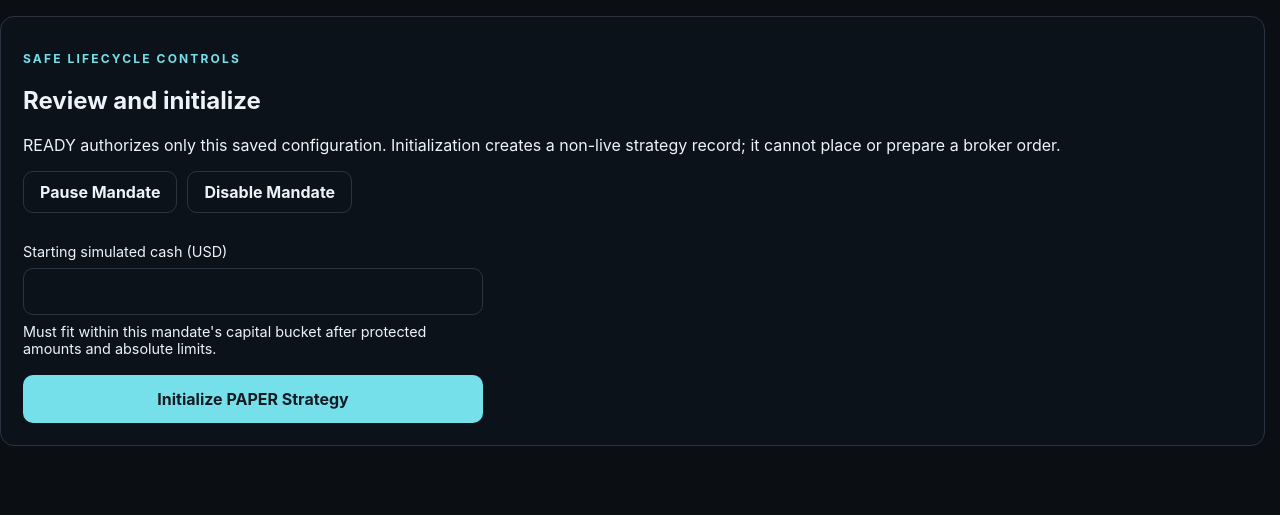
Scenario: MandateControls › initializes only a simulated paper portfolio
In the number field labelled "Starting simulated cash": (253, 291) [23,268,483,315], type "2500"
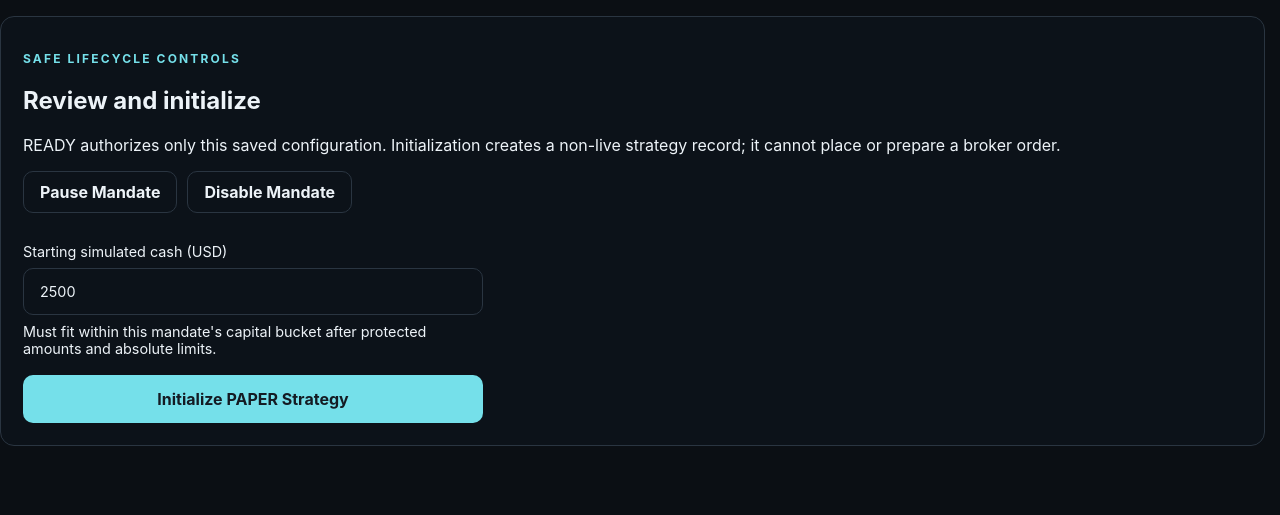
Click the button "Initialize PAPER Strategy": (253, 399) [23,375,483,423]
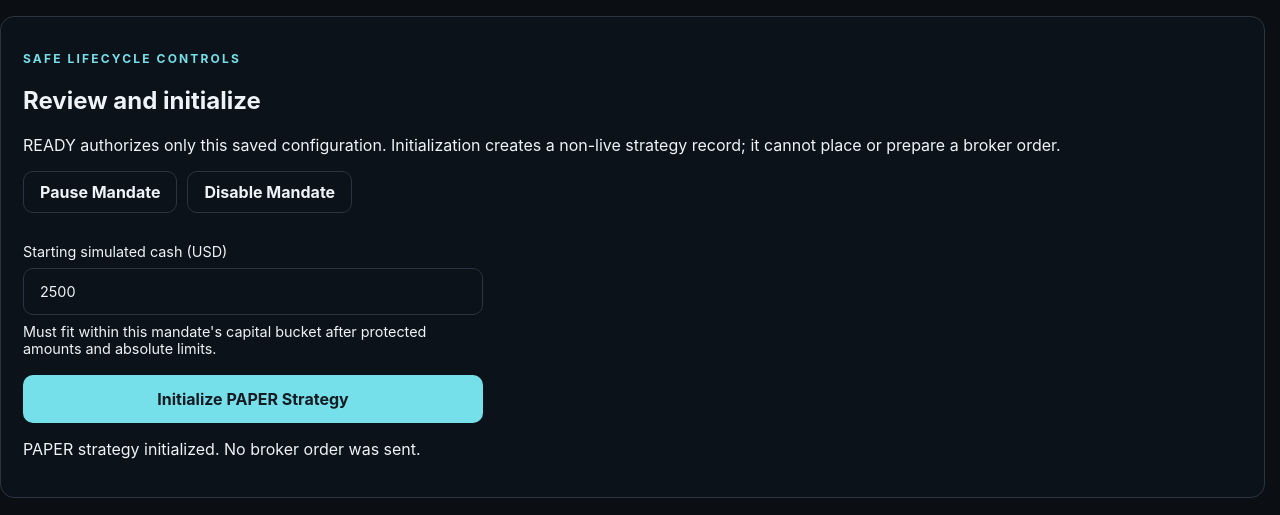
Expected: the text "PAPER strategy initialized. No broker order was sent." is shown, [23,439,421,459]
